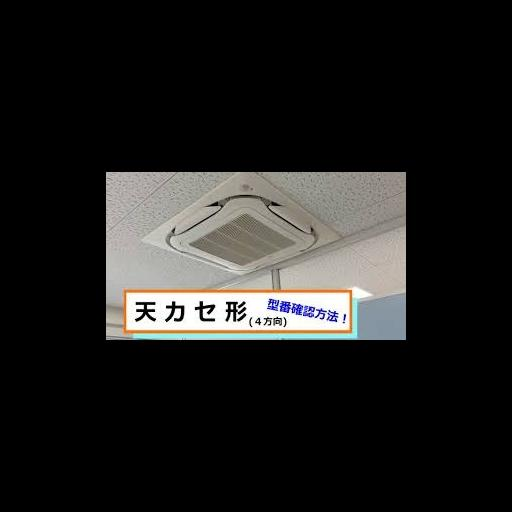4-way-ac: (142, 172, 339, 275)
